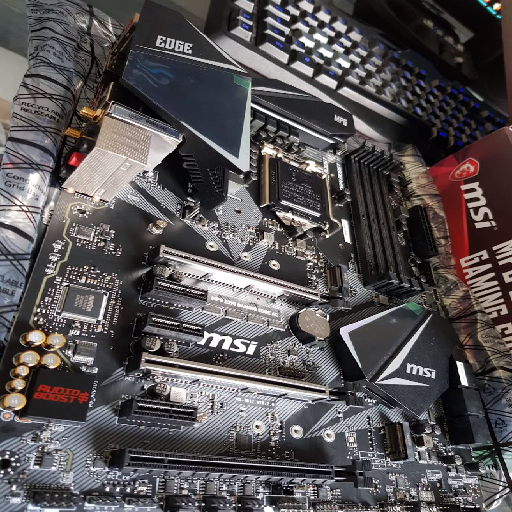CPU: (256, 136, 339, 242)
GPU: (126, 349, 366, 410), (149, 241, 345, 309), (104, 445, 374, 488)
MOTHERBOARD: (4, 3, 504, 503)
RAM: (341, 141, 428, 302)
SSD: (384, 421, 415, 462), (326, 264, 347, 293)
